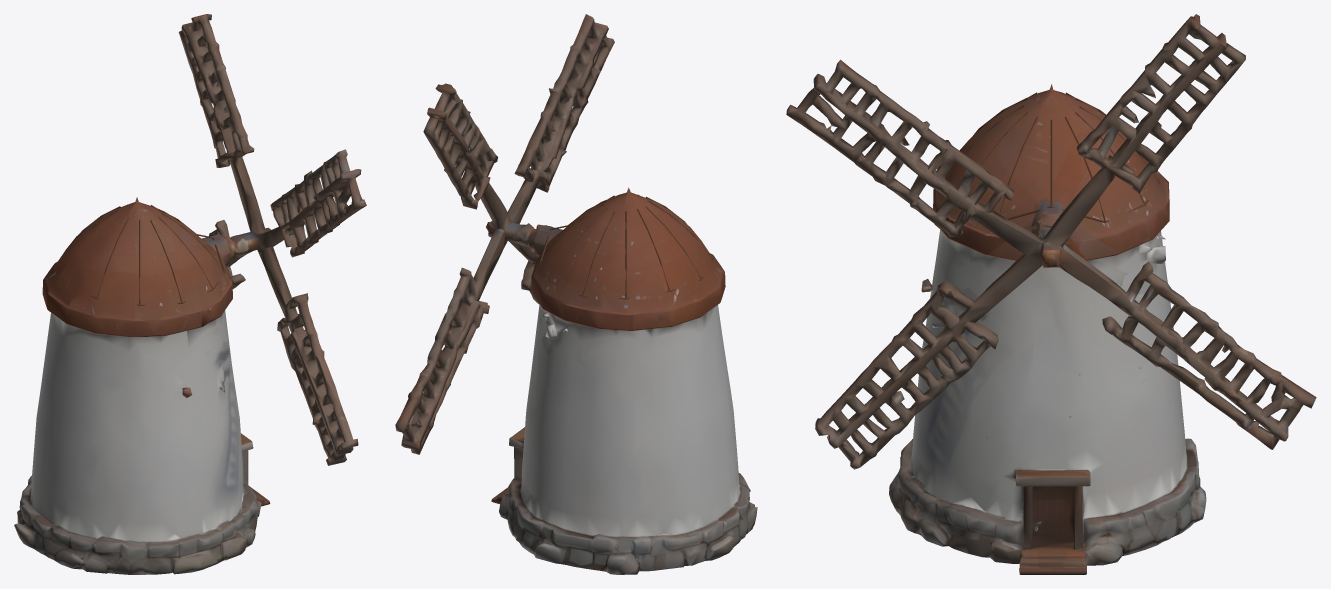
Rendered from windmill-crafted.glb.
3 renders of one model, left to right at view 1: azimuth 30°, elevation 25°; view 2: azimuth 150°, elevation 25°; view 3: azimuth 270°, elevation 25°, orthographic. The views are drawn at different scales.
Visible parts, largest first — view 1: tripo_node_032b3360-de3e-4862-99a3-9a155e3e935f; view 2: tripo_node_032b3360-de3e-4862-99a3-9a155e3e935f; view 3: tripo_node_032b3360-de3e-4862-99a3-9a155e3e935f.
Part boxes in pixels (x1,y1,x2,y2): tripo_node_032b3360-de3e-4862-99a3-9a155e3e935f: [14, 14, 366, 574]; tripo_node_032b3360-de3e-4862-99a3-9a155e3e935f: [395, 14, 757, 574]; tripo_node_032b3360-de3e-4862-99a3-9a155e3e935f: [786, 14, 1316, 574].
Bounding box in the file's own units: 0.5856 × 1 × 0.8594.
1 material, 1 textured.
